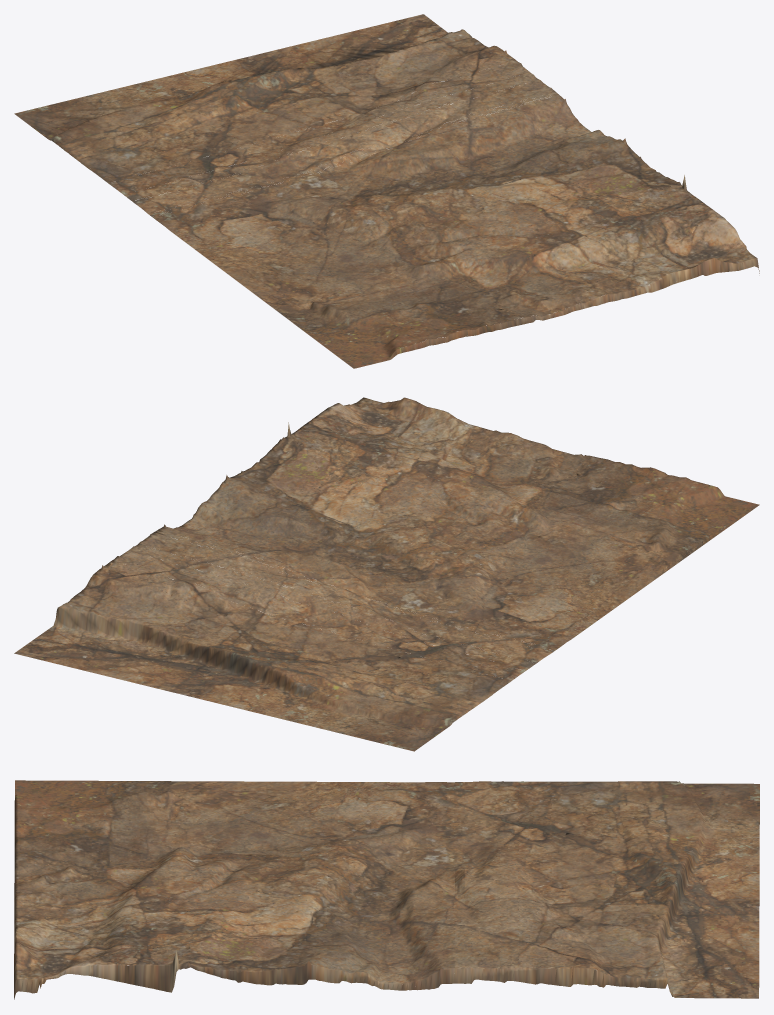
File: morro_de_arica.fbx
The picture shows the model from 3 angles, top to bottom: view 1: azimuth 30°, elevation 25°; view 2: azimuth 150°, elevation 25°; view 3: azimuth 270°, elevation 25°; orthographic projection. The views are drawn at different scales.
Visible parts, largest first — view 1: Cortado__m______scara__1; view 2: Cortado__m______scara__1; view 3: Cortado__m______scara__1.
Part boxes in pixels (bbox=[...]): Cortado__m______scara__1: bbox=[14, 14, 759, 368]; Cortado__m______scara__1: bbox=[14, 397, 759, 751]; Cortado__m______scara__1: bbox=[14, 780, 759, 999].
Size of the model in its own units: 276339 by 30000 by 399317.
